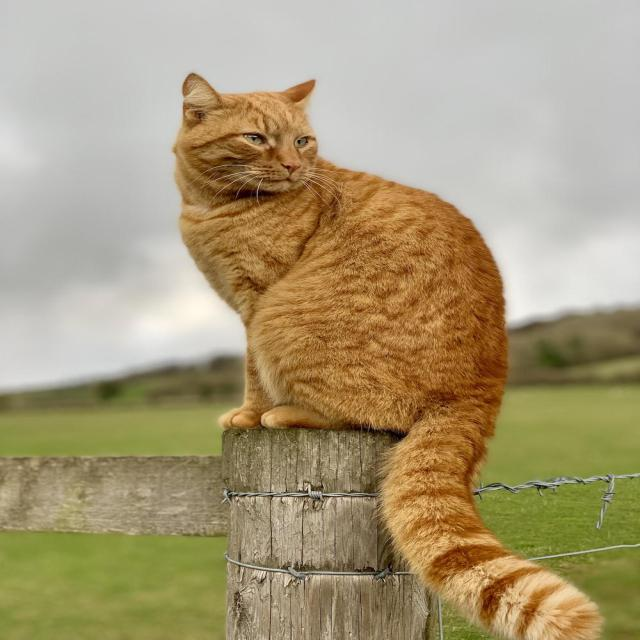Cat: (170, 68, 328, 198)
